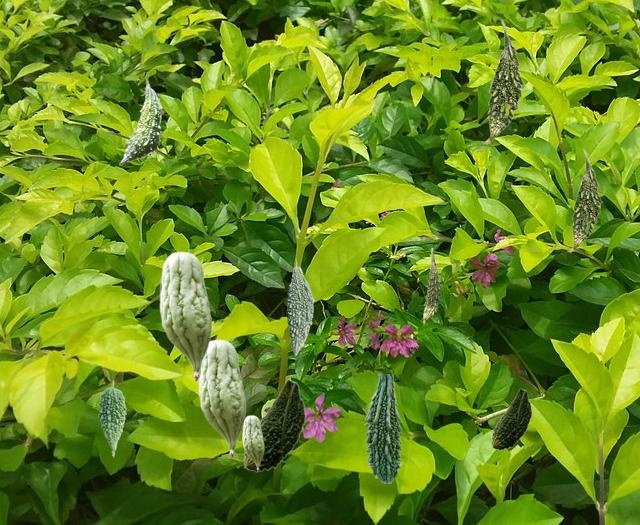ampalaya: (159, 251, 211, 380), (243, 379, 305, 471), (198, 339, 245, 457), (482, 19, 523, 143), (364, 374, 401, 482), (119, 72, 162, 164), (567, 148, 601, 251), (286, 258, 313, 355), (491, 388, 531, 449), (98, 380, 125, 456), (423, 248, 440, 324), (242, 415, 263, 470)
